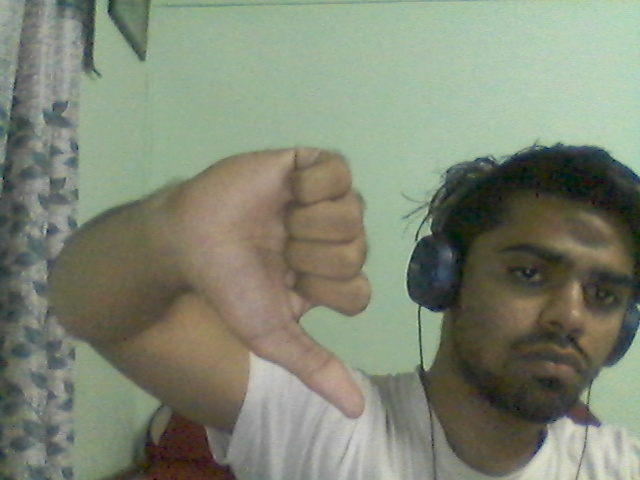No: (120, 121, 404, 447)
